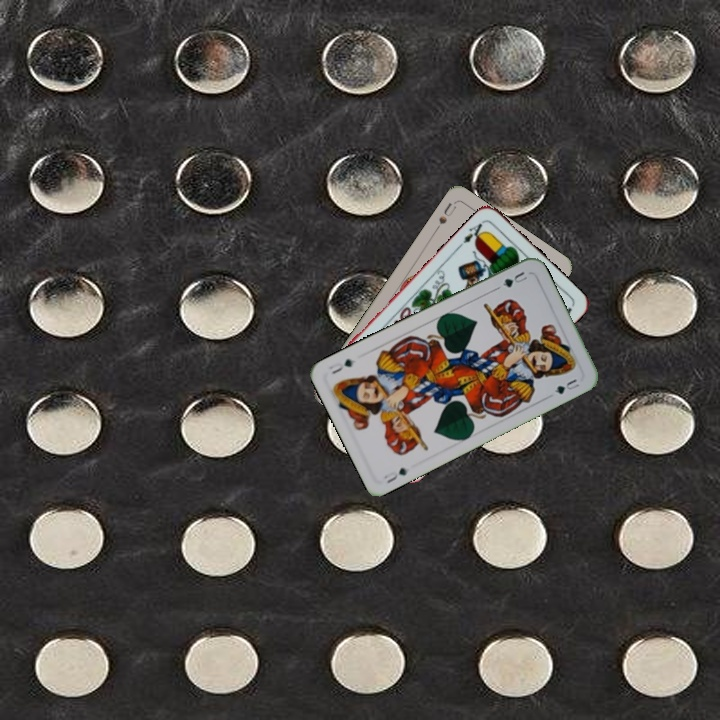EA: (459, 217, 488, 246)
GU: (498, 267, 530, 290), (379, 464, 410, 486)
SU: (431, 199, 459, 234)
